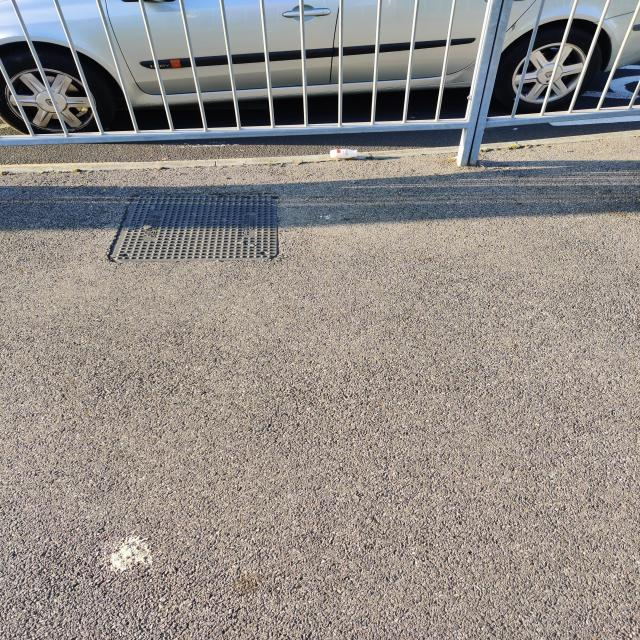litter: (328, 145, 364, 158)
